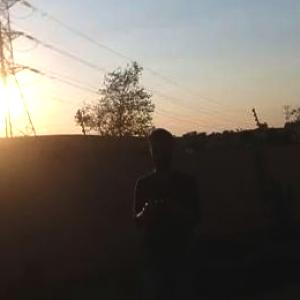follow: (128, 124, 205, 298)
